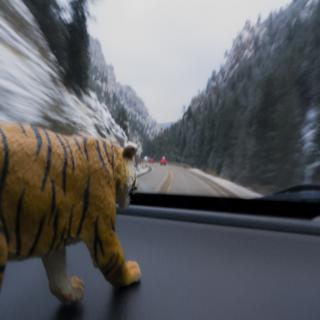Tiger: (0, 119, 138, 303)
